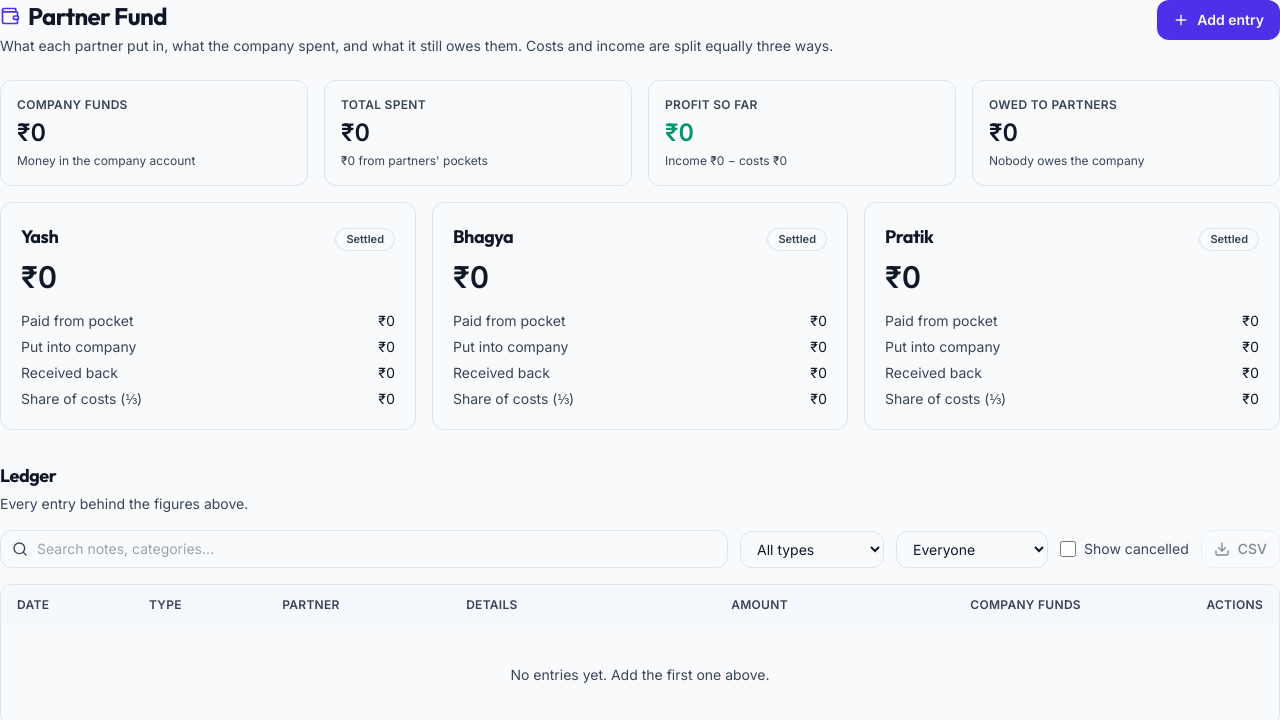
Test: PartnerFundPanel › surfaces a failed save instead of silently losing the entry
The image size is (1280, 720).
Click the button "Add entry". click: click(1219, 20)
box: [1157,0,1279,40]
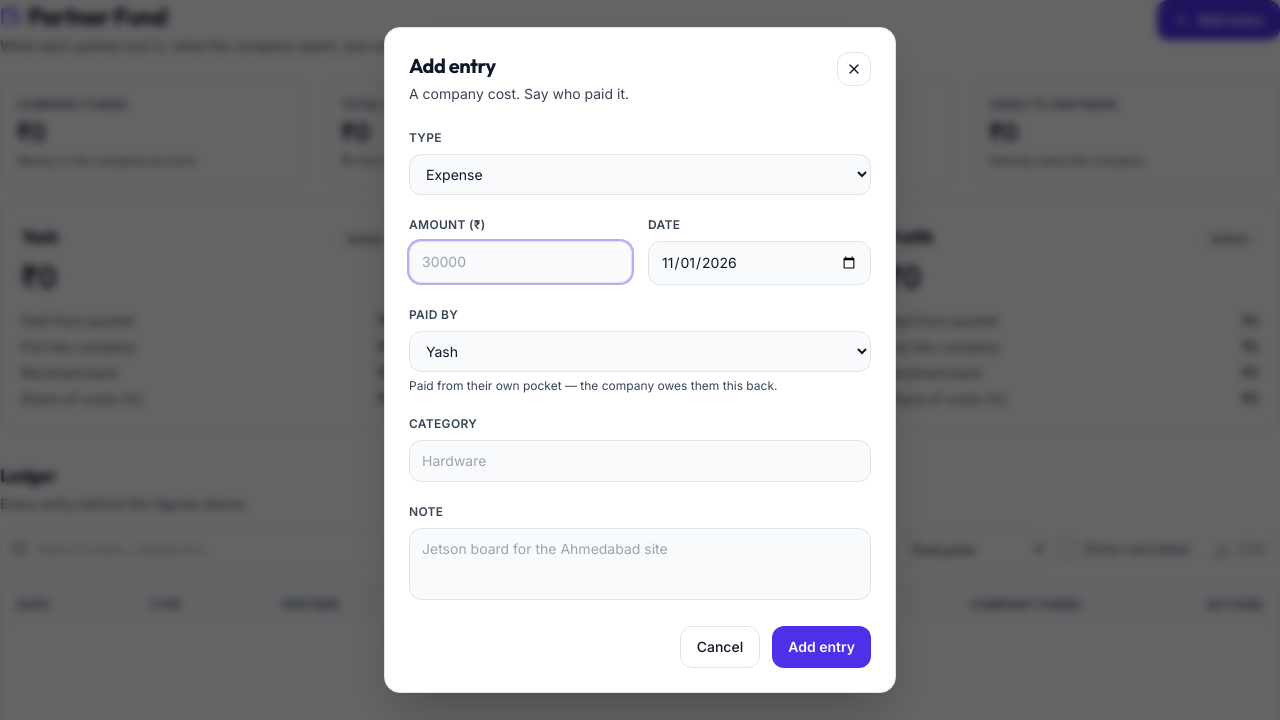
Type "500" into the field labelled "Amount (₹)". click: (520, 262)
box: [409,241,632,283]
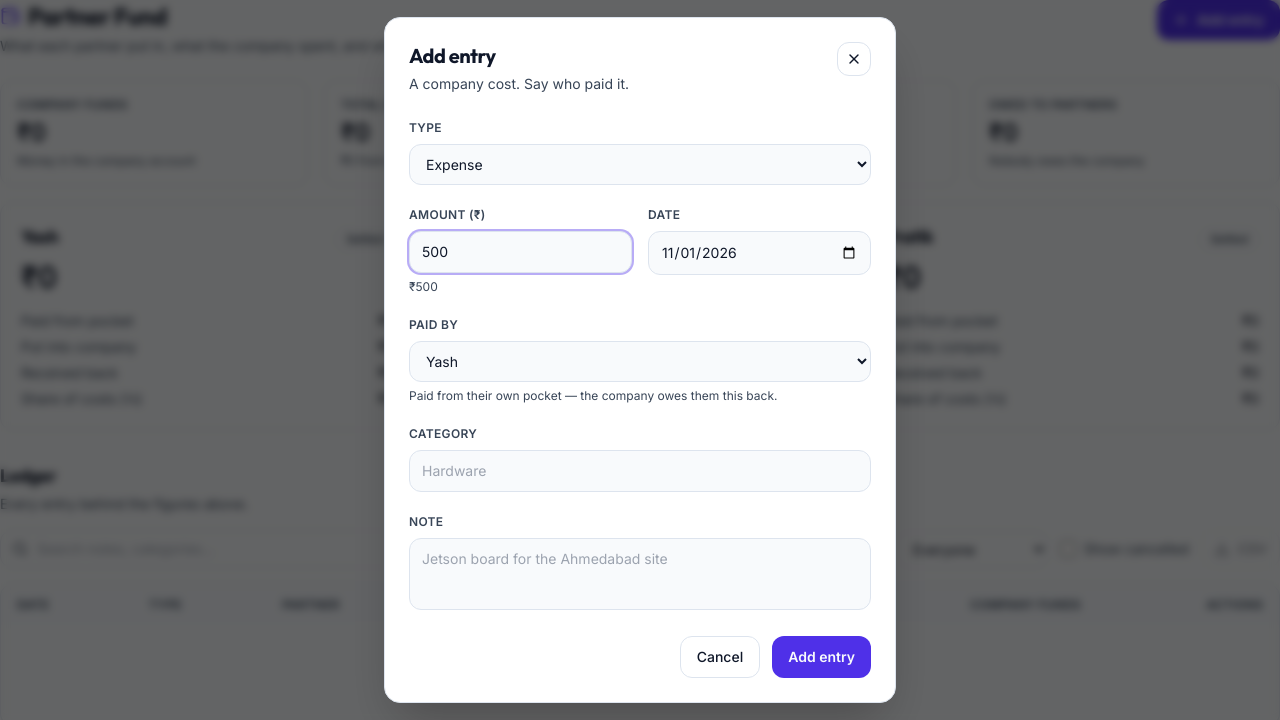
Click the button "Add entry". click: click(822, 657)
box: [772,636,871,678]
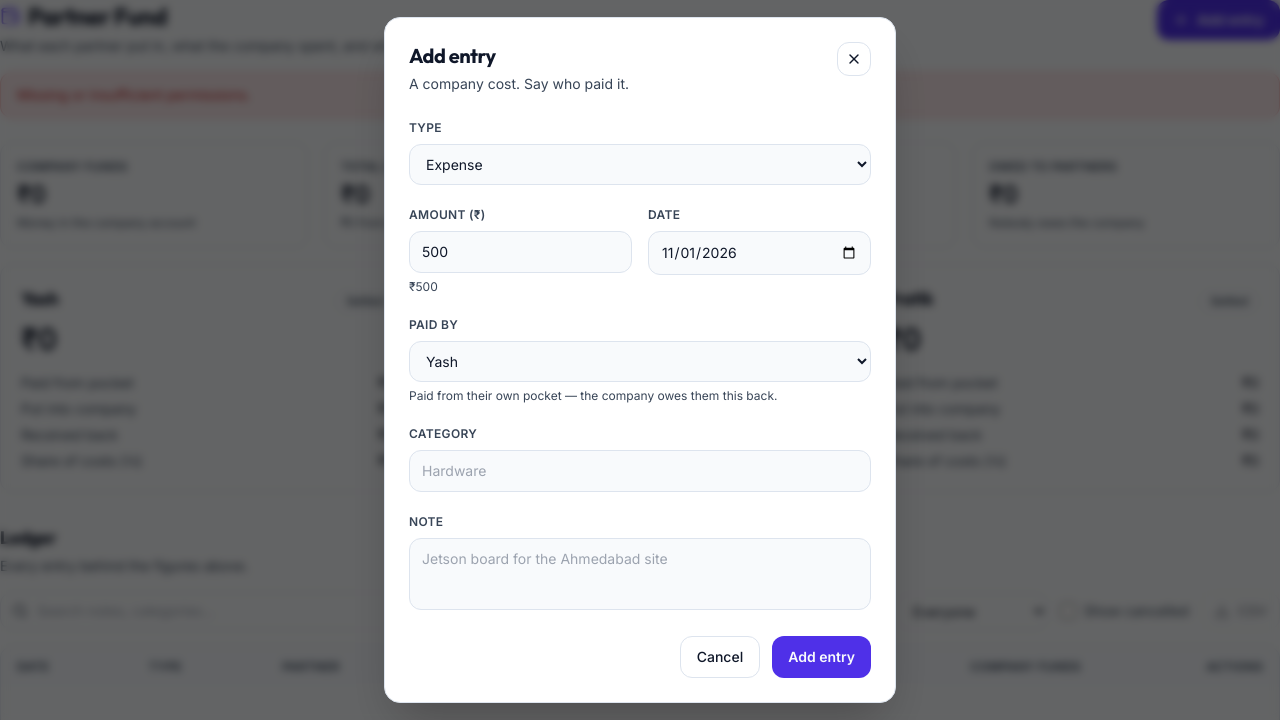
Now the dialog is shown
Now the text "Missing or insufficient permissions." is shown, box [0,72,1279,118]
